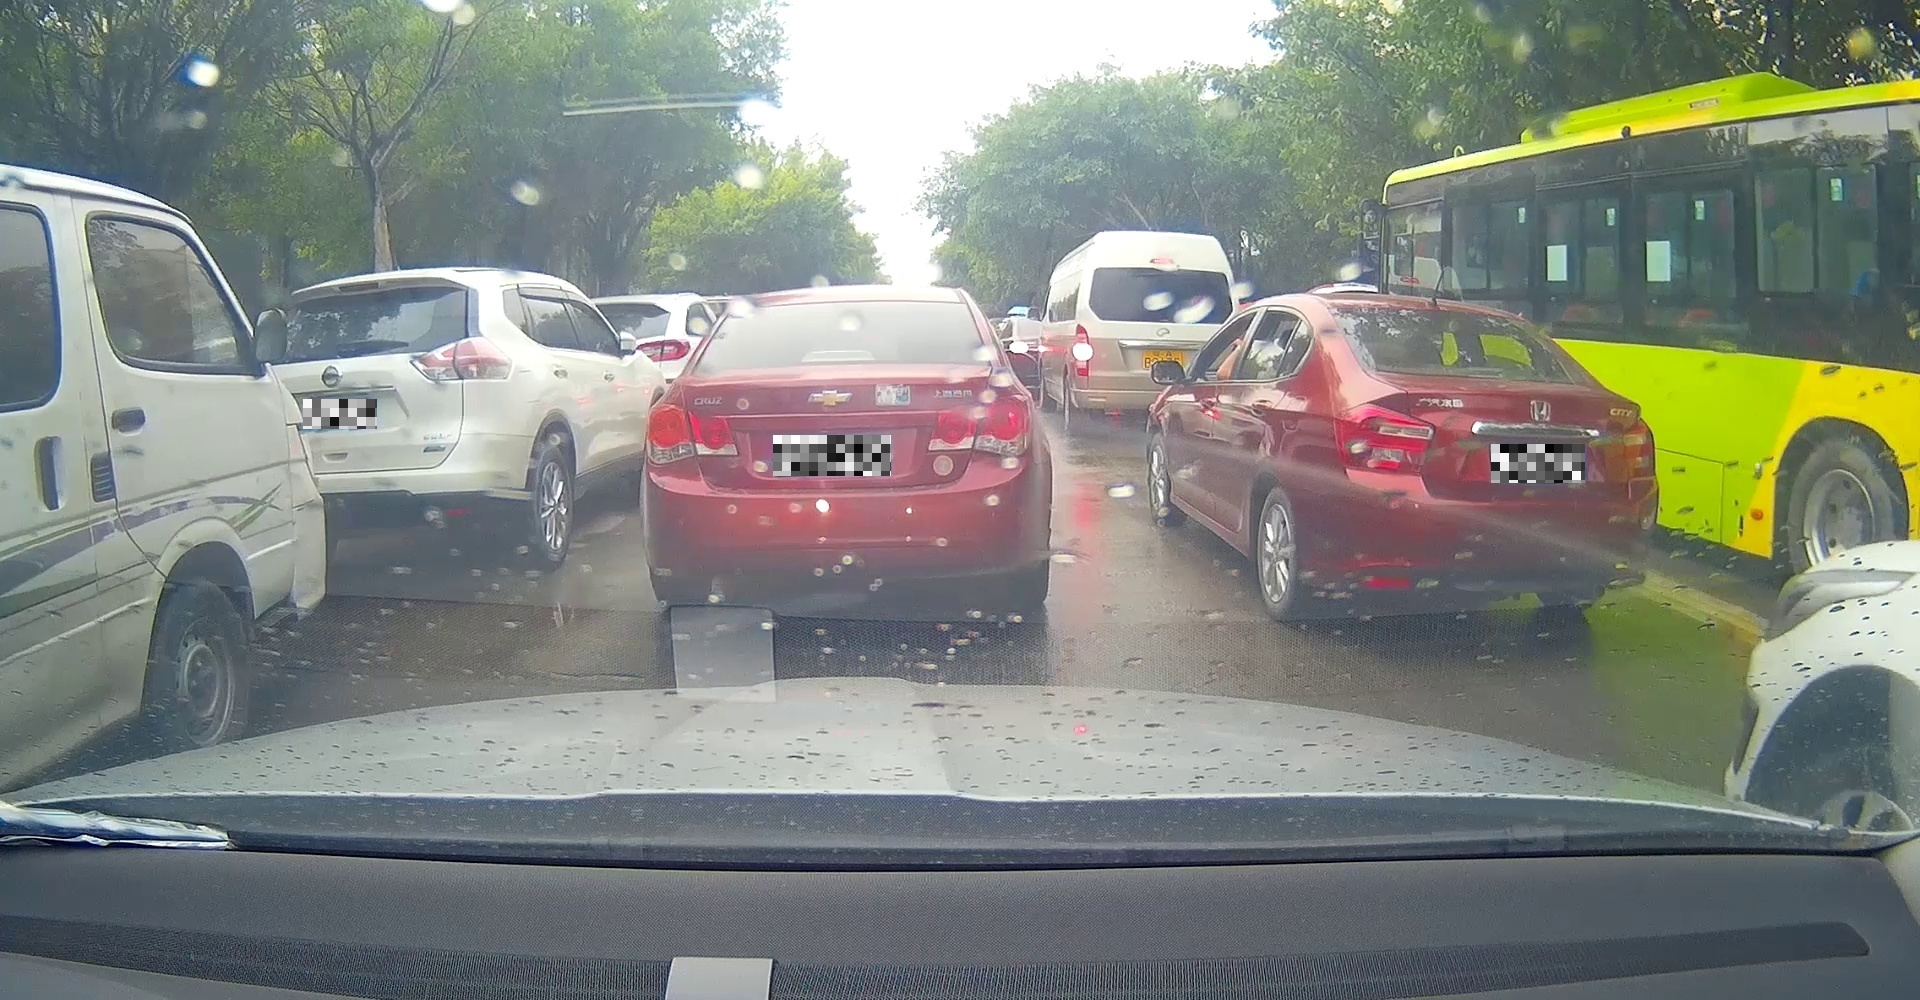L_light: (1332, 404, 1436, 475), (644, 404, 738, 464)
R_light: (927, 393, 1031, 457), (1622, 415, 1655, 480)
T_light: (801, 349, 875, 360), (1457, 365, 1509, 378)
day-no: (639, 284, 1051, 604), (1326, 292, 1660, 622)
plate_1: (303, 398, 377, 429)
plate_2: (773, 435, 891, 476)
plate_3: (1491, 444, 1585, 484)
